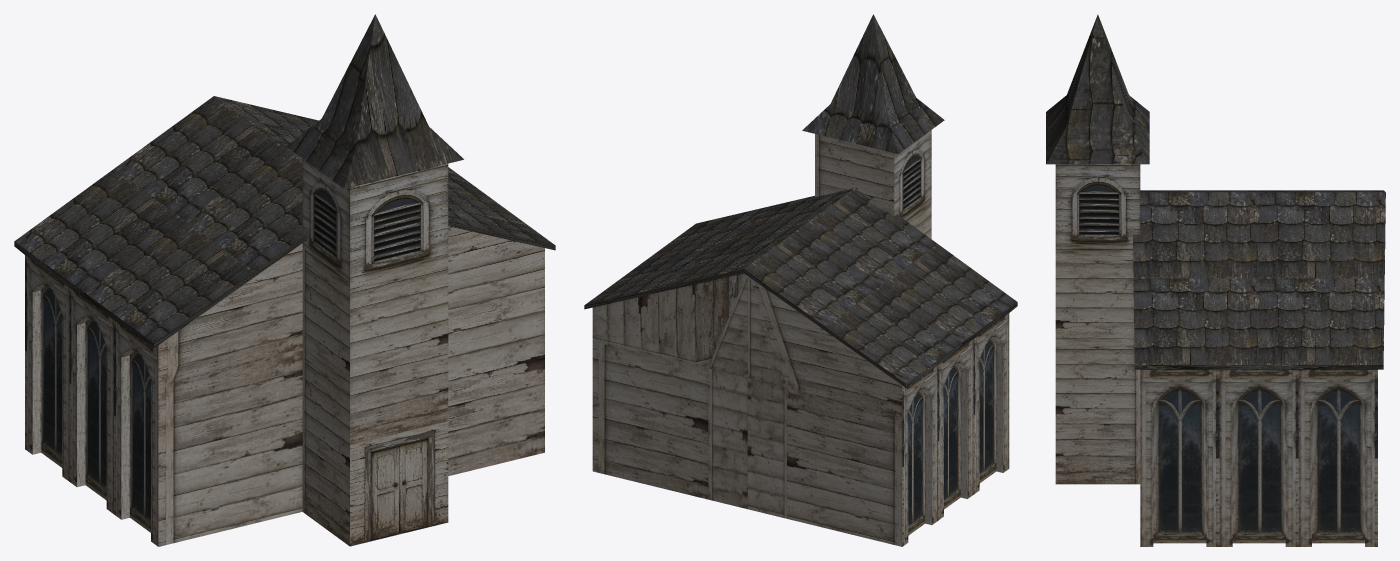
Rendered from Church.fbx.
3 views of the same model, side by side, from view 1: azimuth 30°, elevation 25°; view 2: azimuth 150°, elevation 25°; view 3: azimuth 270°, elevation 25° (orthographic). The views are drawn at different scales.
Visible parts, largest first — view 1: Church; view 2: Church; view 3: Church.
Part boxes in pixels (x1,y1,x2,y2): Church: [14, 14, 555, 546]; Church: [584, 14, 1017, 546]; Church: [1046, 14, 1385, 546].
Size of the model in its own units: 5.24 by 6.28 by 4.31.
1 material, 1 textured.
